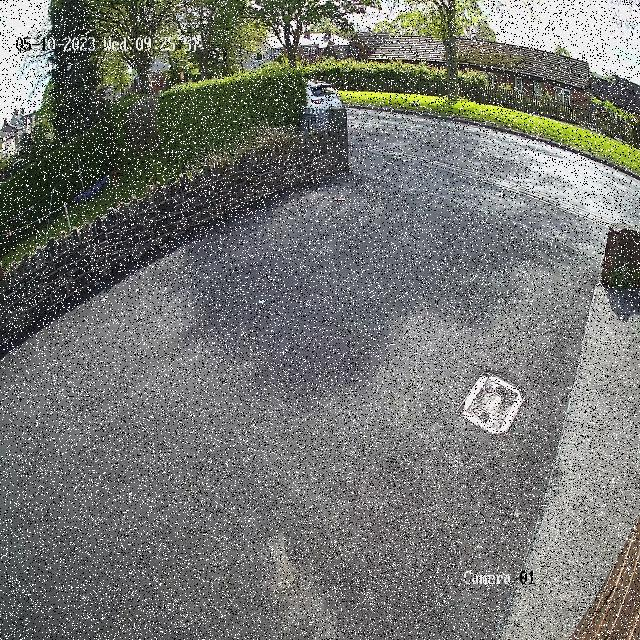vehicle: (303, 79, 346, 120)
